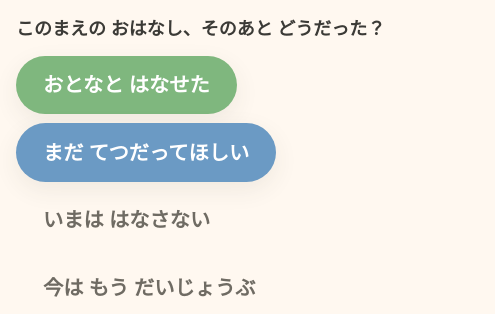
Test case: shows the confirmed result for not_now: また こんど、ようすを きくね。はなしたい ときは、いつでも はなせるよ。
The width and height of the screenshot is (495, 314).
Click the button "いまは はなさない".
click(127, 220)  # box [16,190,237,249]
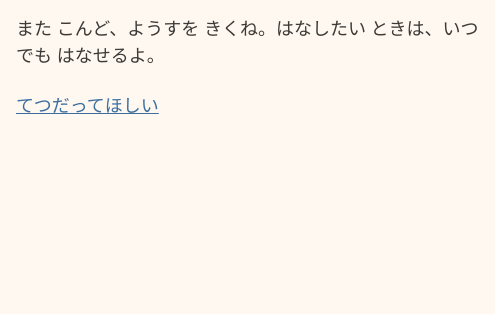
Expected: the message reads "また こんど、ようすを きくね。はなしたい ときは、いつでも はなせるよ。", [16,16,479,67]
